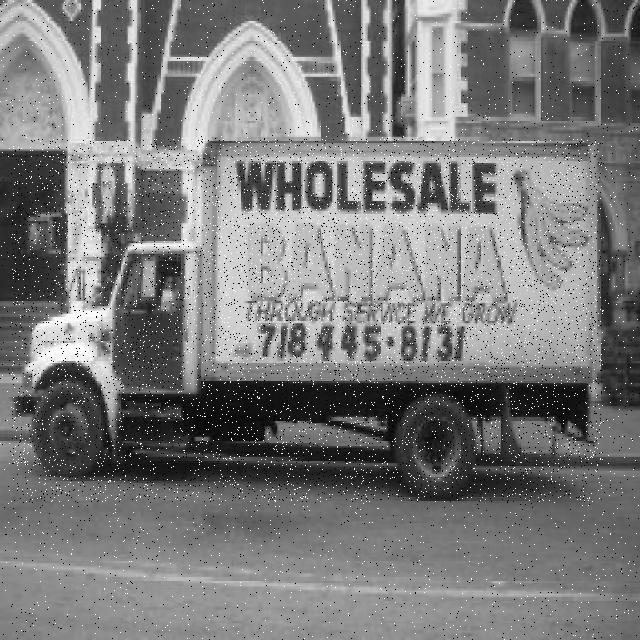Box Truck: (12, 139, 603, 502)
